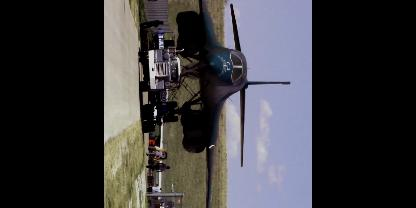AV8B: (163, 0, 292, 207)
